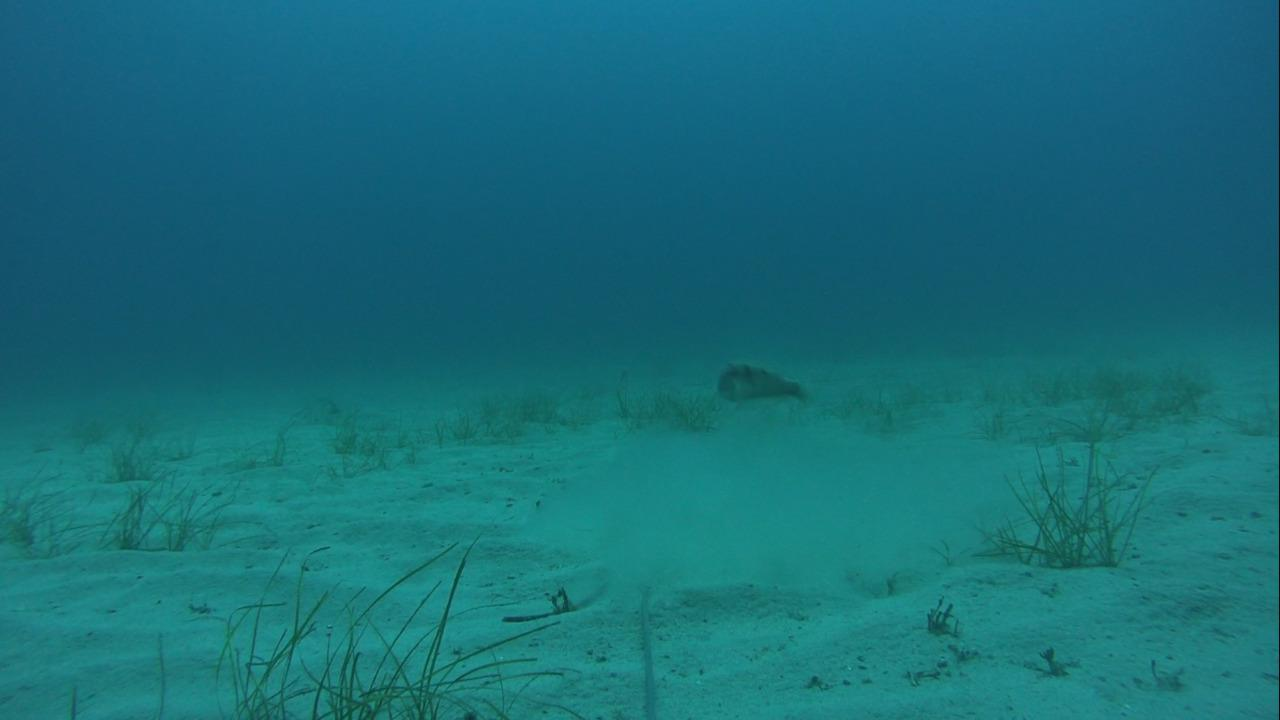raor: (711, 356, 810, 408)
